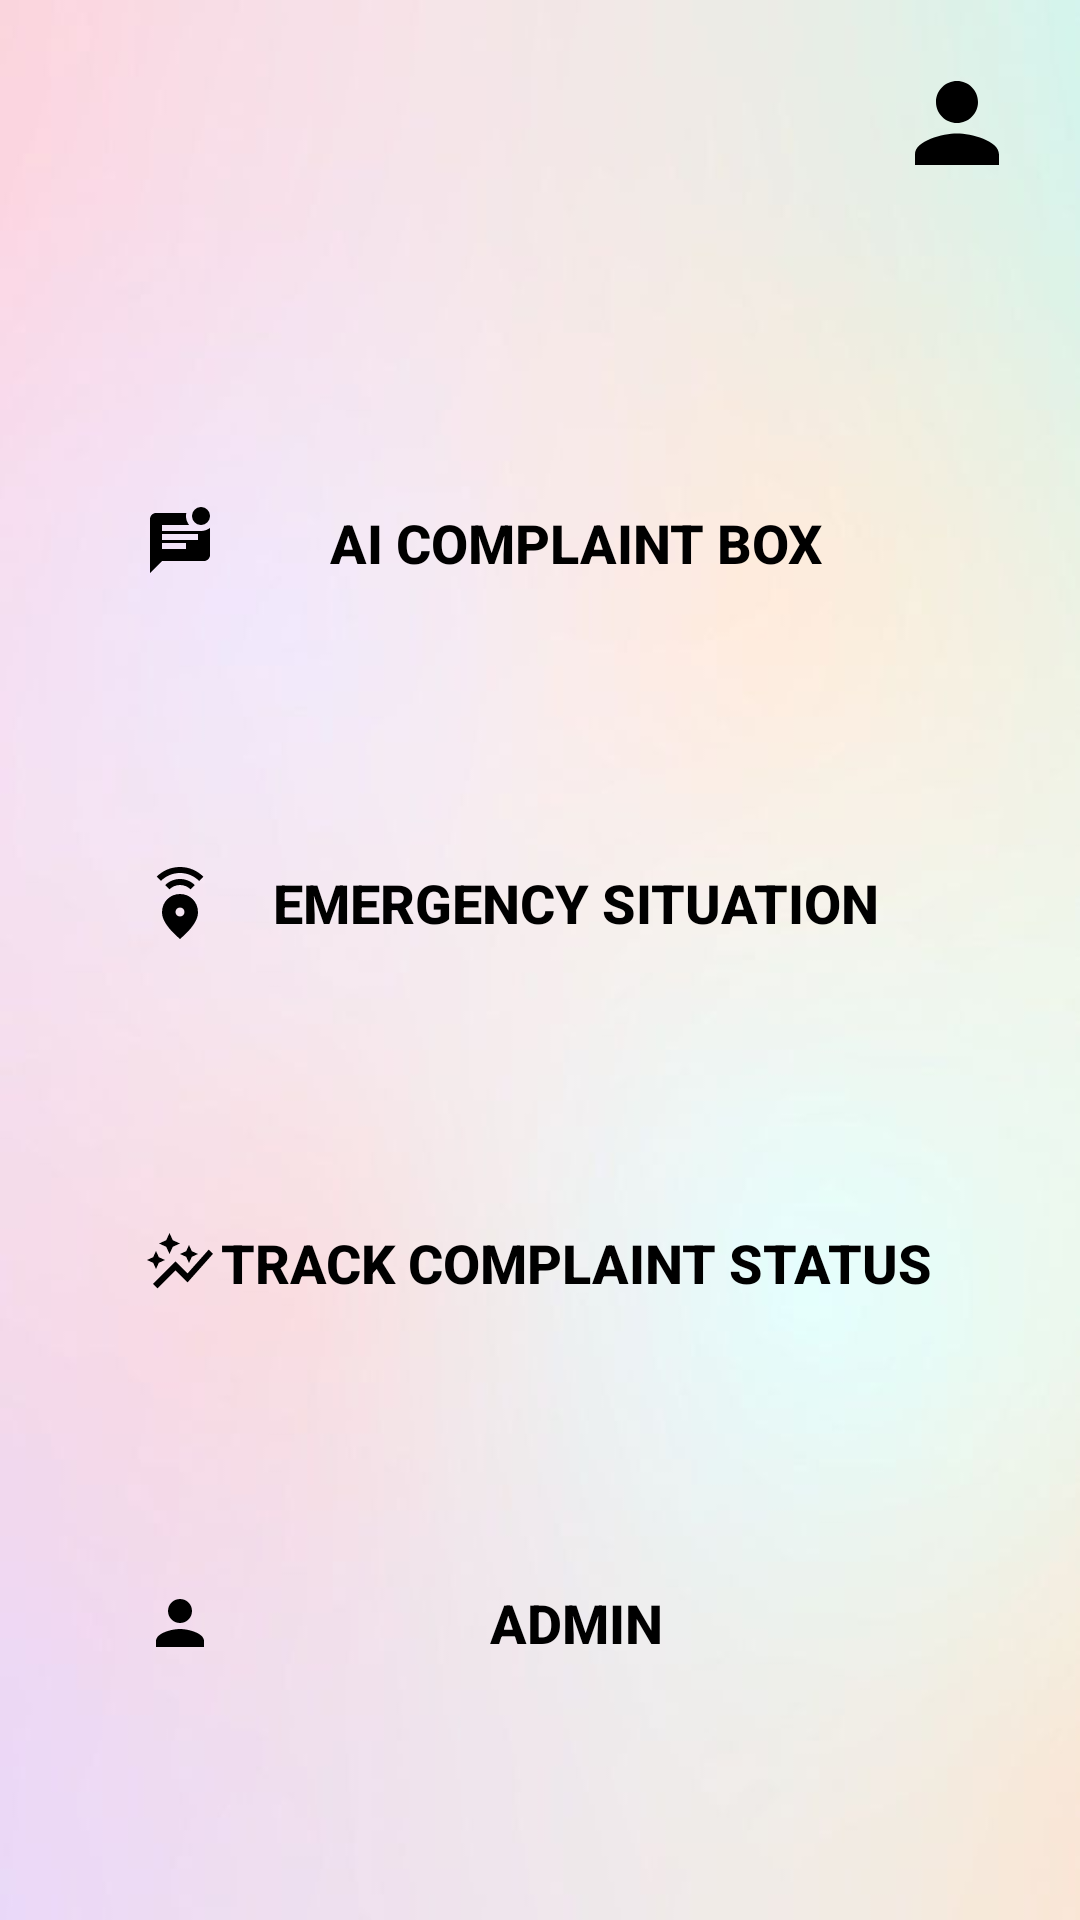

Where icons sit on this 1080px x 1920px app screen, as (left=x1, top=y1, right=x2, bottom=y2):
Profile: (left=915, top=81, right=999, bottom=165)
